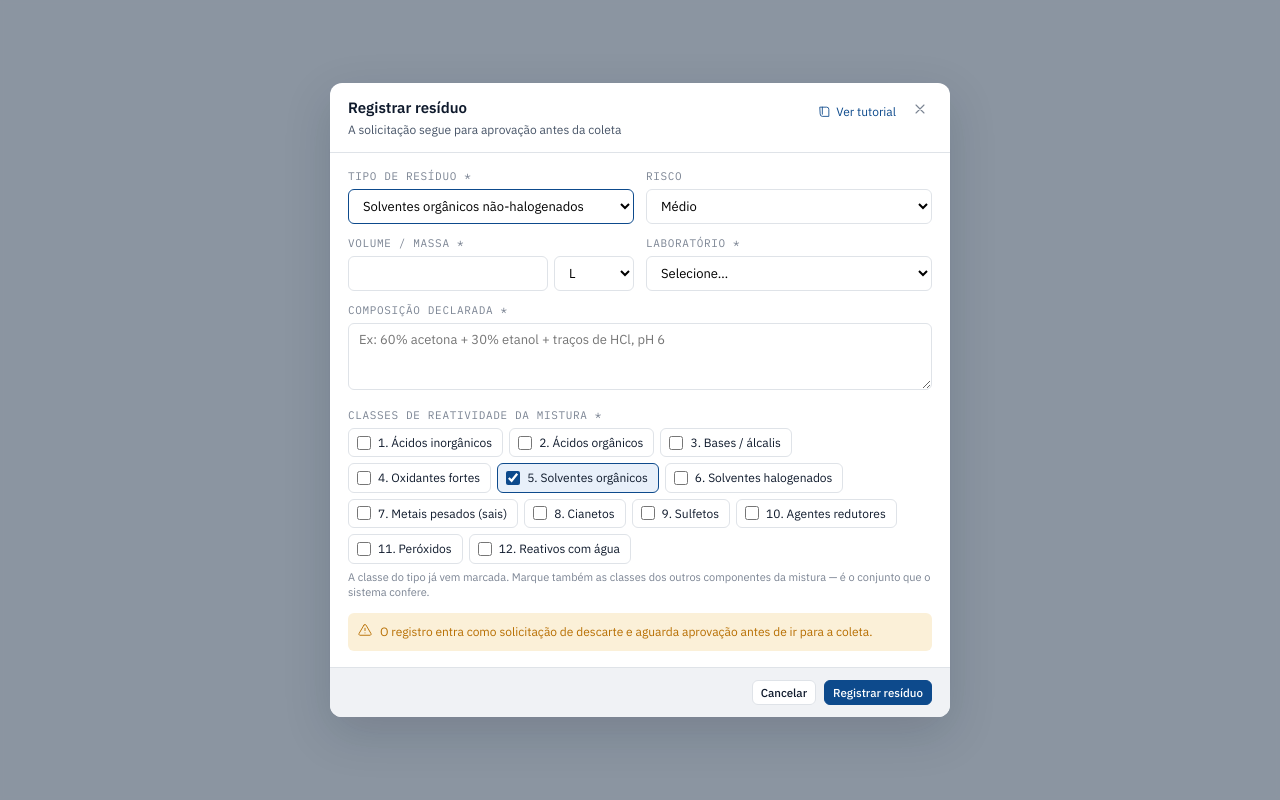
FormNovoResiduo — entradas inválidas › mantém o botão desabilitado enquanto nenhuma classe estiver marcada
Check: the button "Registrar resíduo" is enabled, box [824,680,932,705]
Click the checkbox labelled "5. Solventes orgânicos".
click(513, 478)  # box [506,471,520,485]
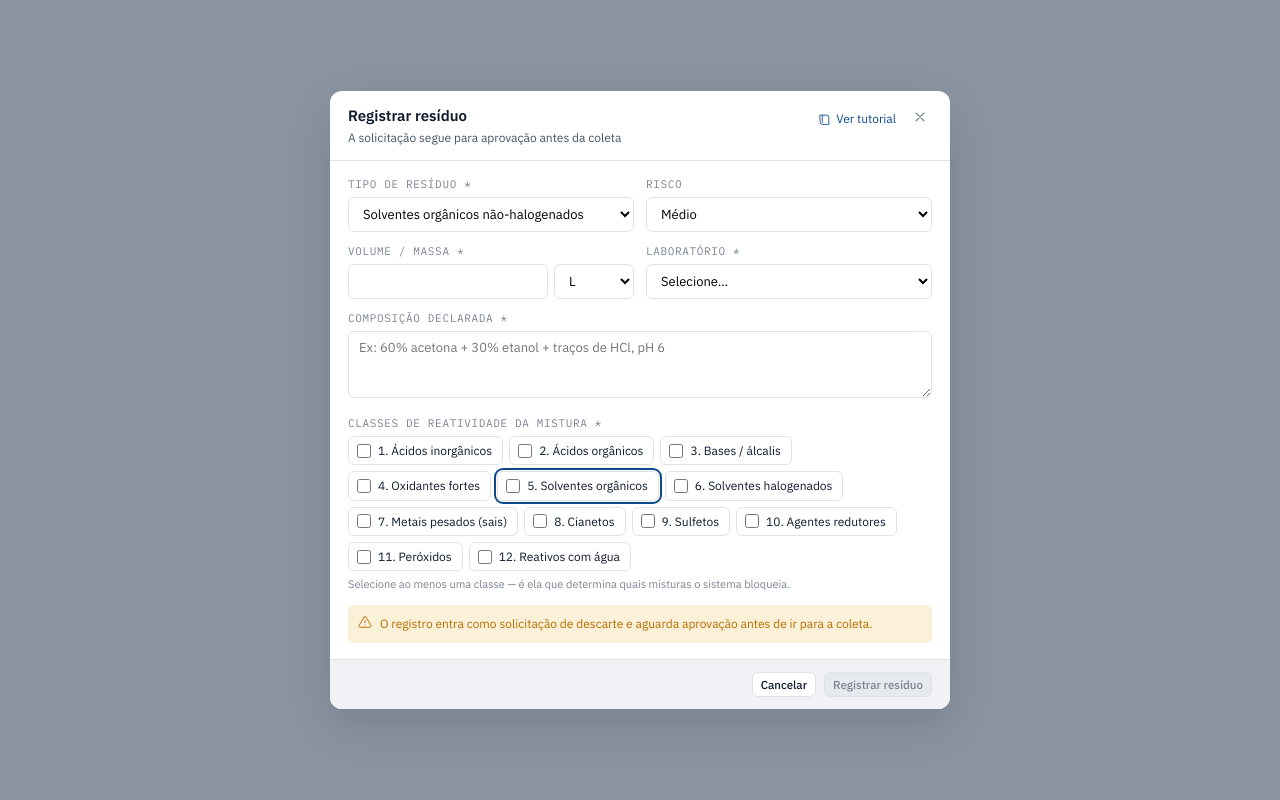
Check: the button "Registrar resíduo" is disabled, box [824,672,932,697]
